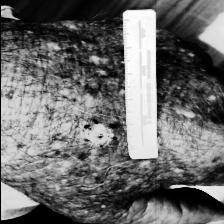Potentially Malignant Skin Tumors: (88, 124, 112, 146)
